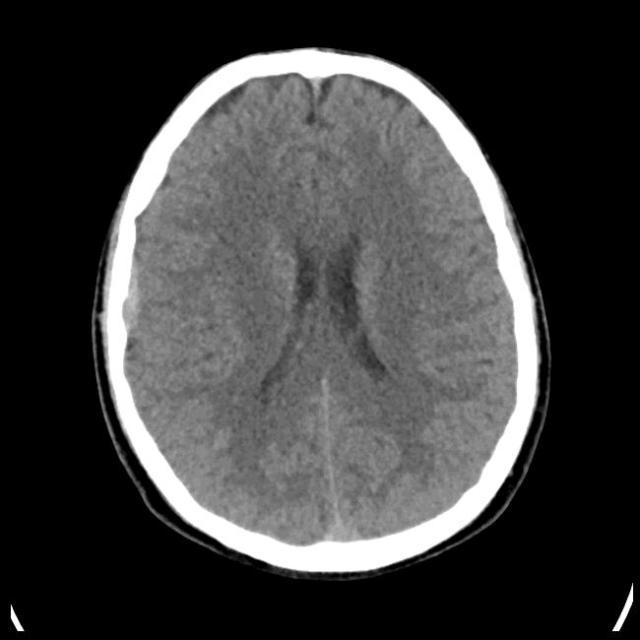lesion: (95, 50, 548, 573)
